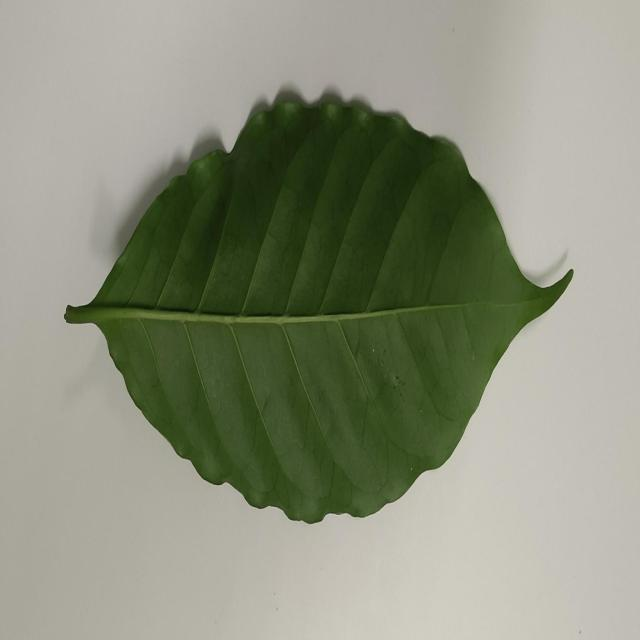Sanas: (63, 87, 573, 526)
